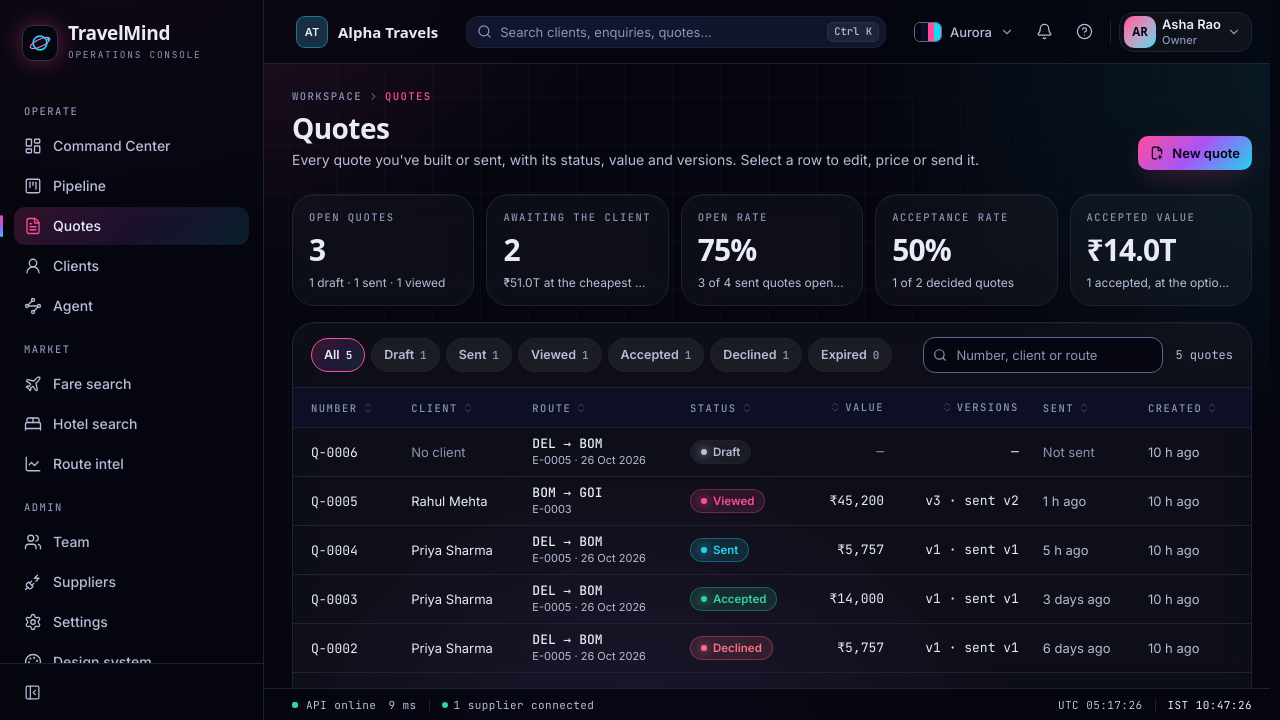
Scenario: status tabs filter through the API and the search box narrows the rows
Expected: the text "Q-0005" is shown, x1=311 y1=493 x2=358 y2=510
Click the tab "Sent 1".
click(479, 355)  # box x1=446 y1=338 x2=512 y2=372
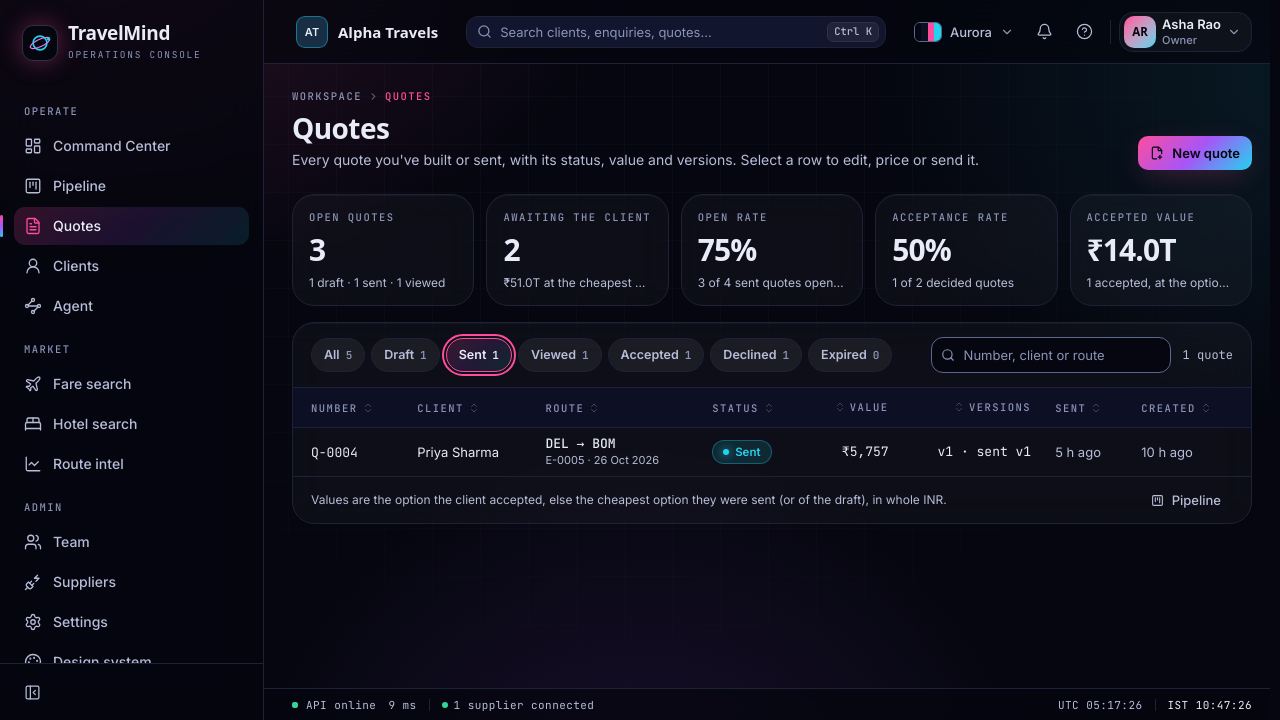
Expected: the text "Q-0004" is shown, x1=311 y1=444 x2=358 y2=461
Now the text "Q-0005" is gone
Click the tab "All 5".
click(338, 355)  # box x1=311 y1=338 x2=365 y2=372
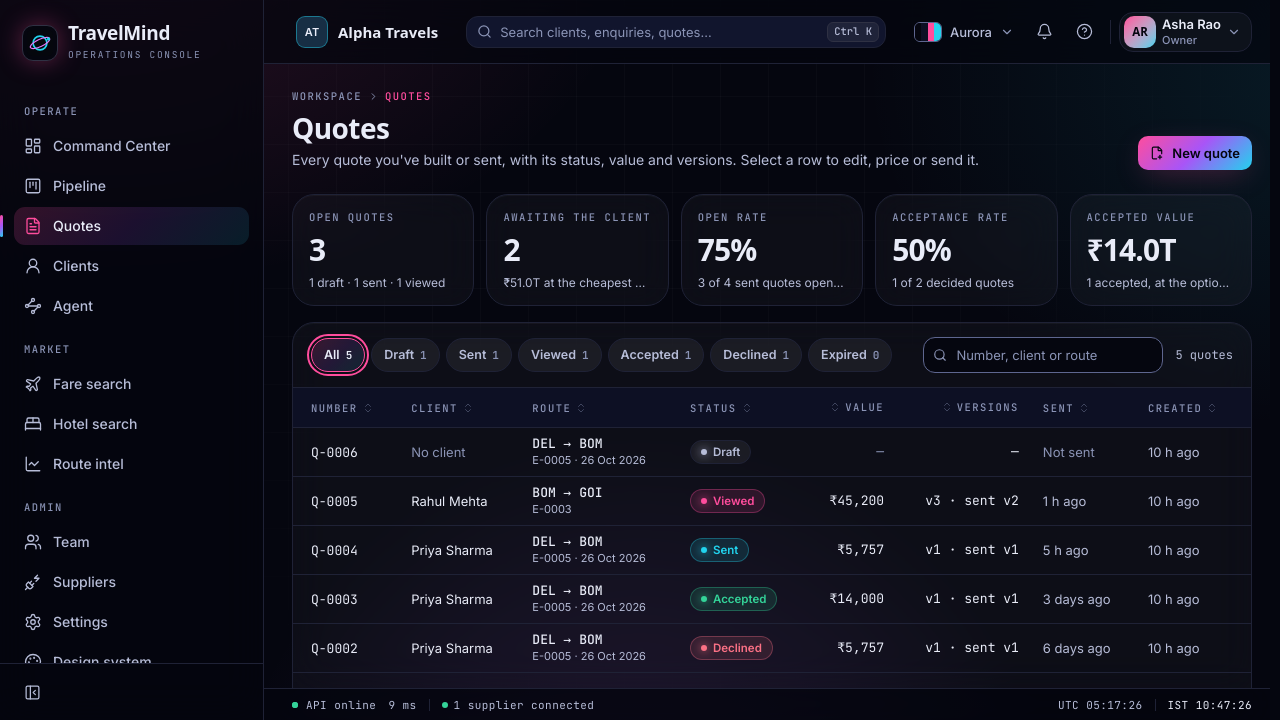
Now the text "Q-0005" is shown, box x1=311 y1=493 x2=358 y2=510
Type "rahul" into the search field named "Search quotes".
click(1043, 355); type("rahul")  # box x1=923 y1=337 x2=1163 y2=373
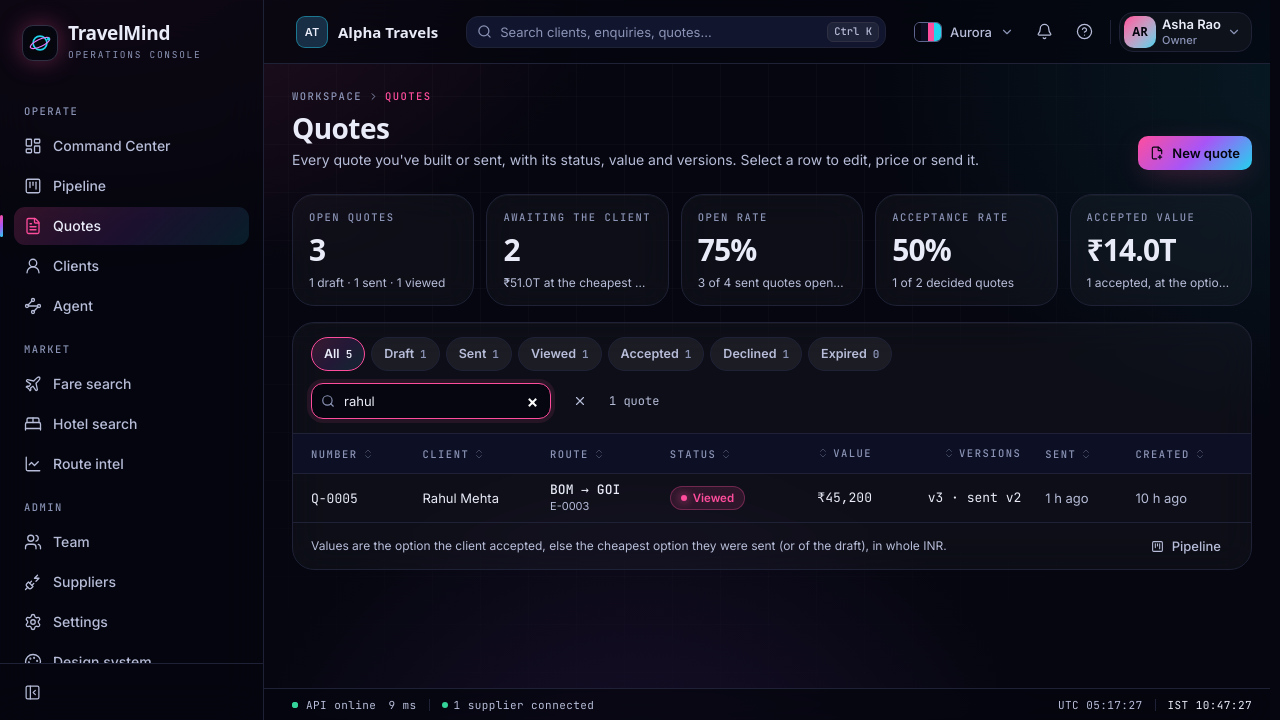
Now the text "Q-0005" is shown, box x1=311 y1=490 x2=358 y2=507
Now the text "Q-0004" is gone
